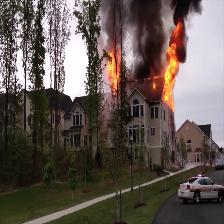fire: (165, 29, 179, 108), (106, 52, 123, 93)
smoke: (135, 2, 162, 76), (110, 1, 126, 49), (173, 1, 187, 23)
